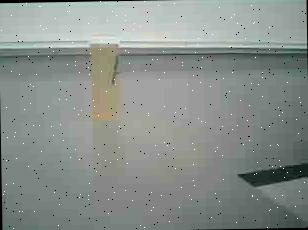Bottle A: (82, 26, 133, 130)
